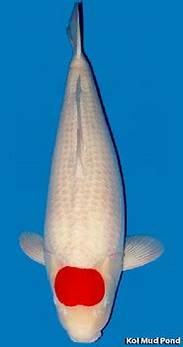sun: (17, 2, 162, 343)
